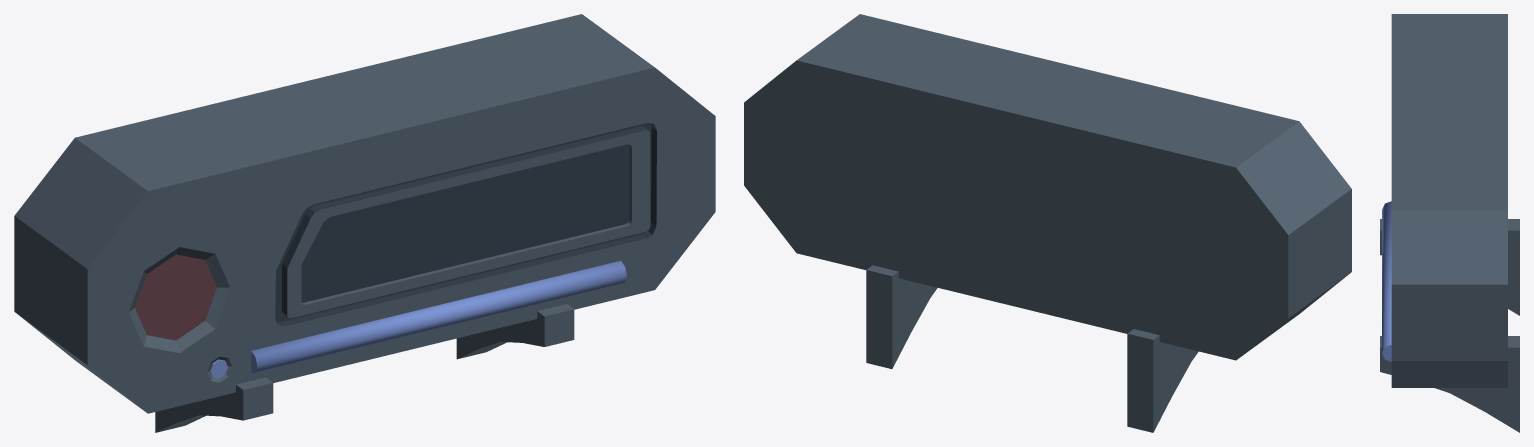
File: BBox.fbx
The picture shows the model from 3 angles, left to right: view 1: azimuth 30°, elevation 25°; view 2: azimuth 150°, elevation 25°; view 3: azimuth 270°, elevation 25°; orthographic projection. The views are drawn at different scales.
Visible parts, largest first — view 1: BBox; view 2: BBox; view 3: BBox.
Part boxes in pixels (left/top/right/bottom): BBox: left=14, top=14, right=715, bottom=432; BBox: left=744, top=14, right=1351, bottom=432; BBox: left=1380, top=14, right=1519, bottom=432.
Size of the model in its own units: 165 by 80.68 by 39.9.
